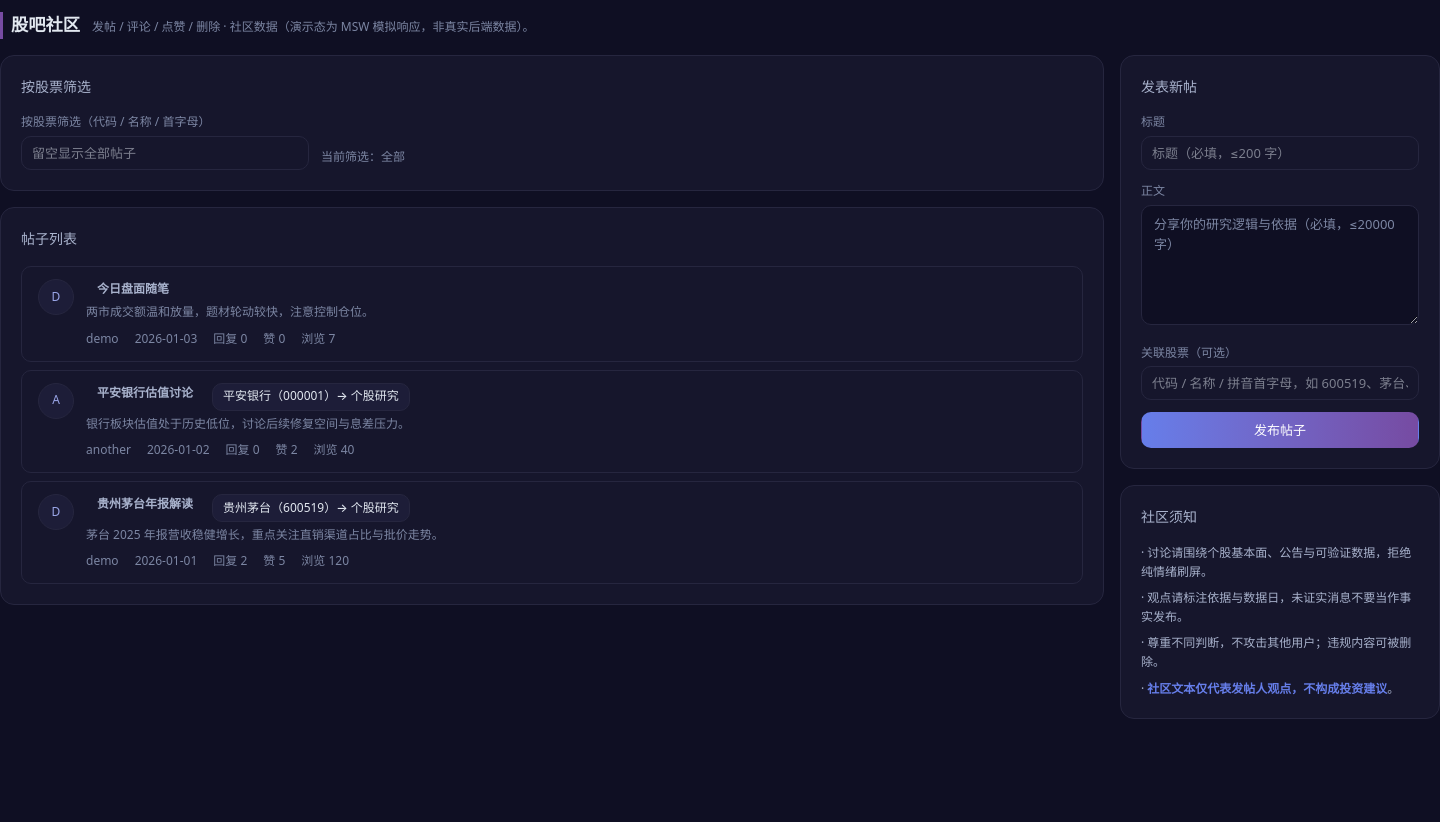
Test case: ForumView · 股吧社区（演示态 MSW 真测） › 发帖 → 新帖出现在列表（发布→列表出现）
Expected: the button "贵州茅台年报解读" is shown, [86,494,204,514]
Type "新帖子标题" into the field named "帖子标题".
click(1280, 153); type("新帖子标题")  # box [1141,136,1419,170]
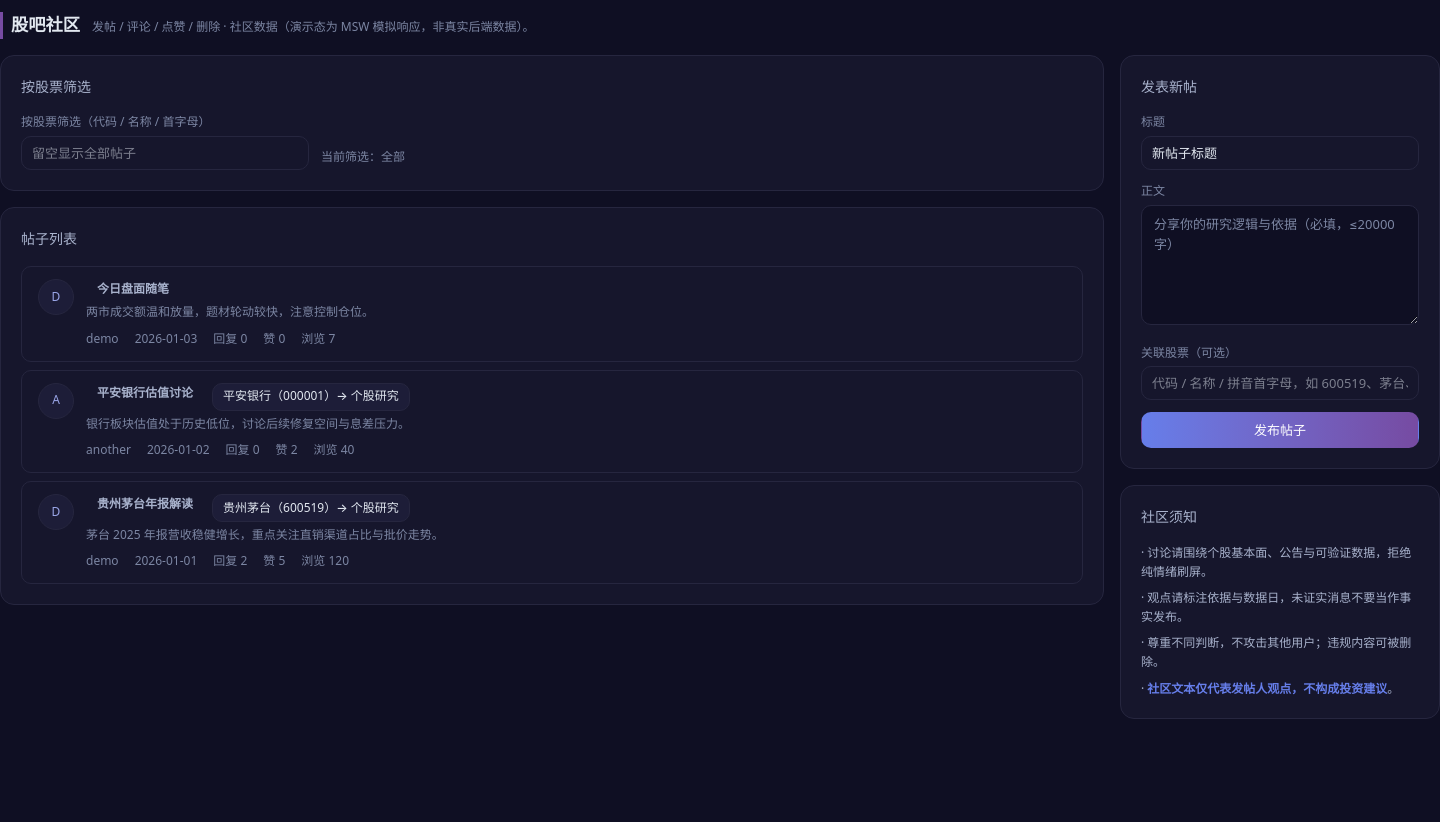
Type "新帖正文内容" into the text box named "帖子内容".
click(1280, 265); type("新帖正文内容")  # box [1141,205,1419,325]
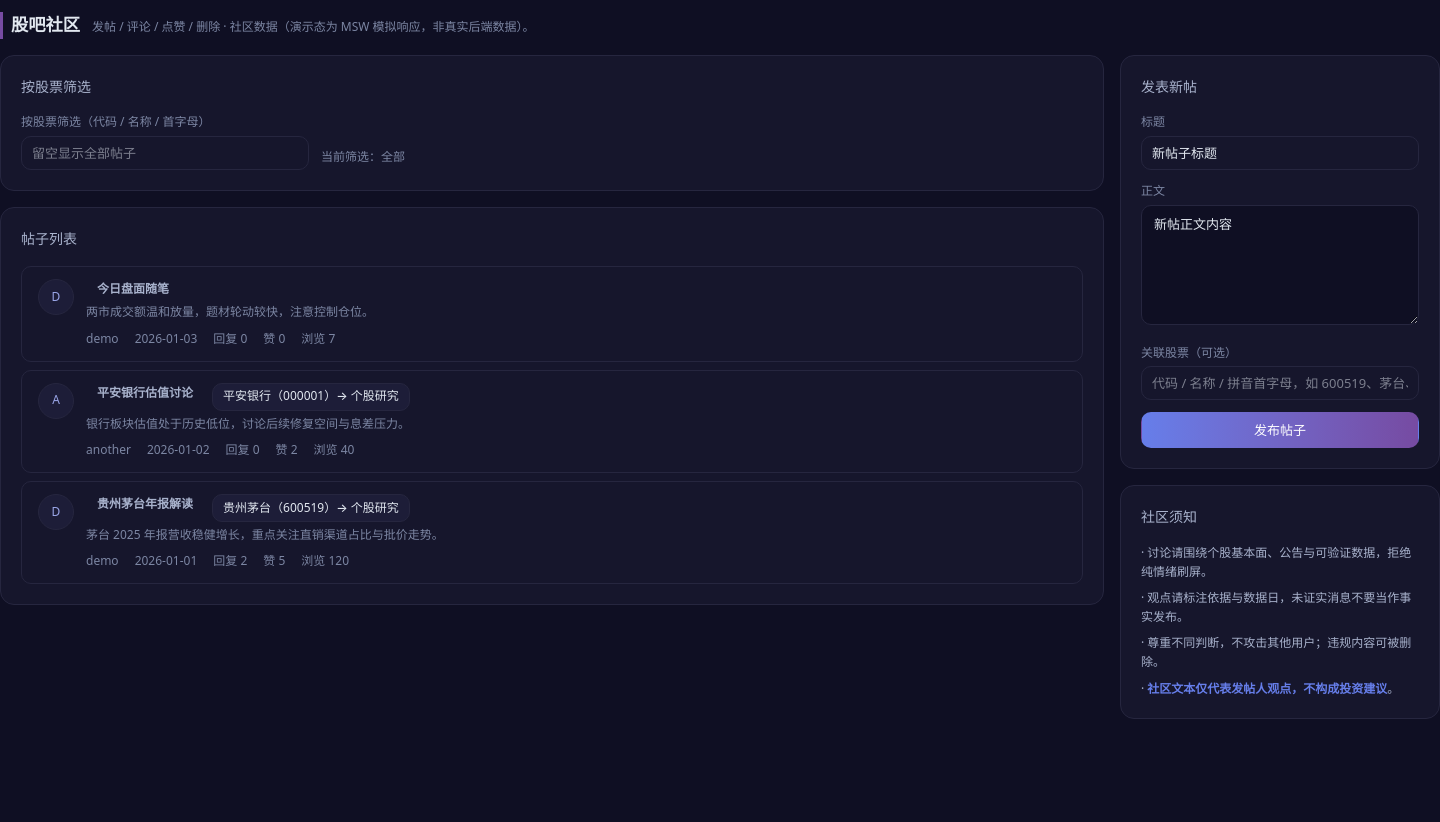
Click the button "发布帖子".
click(1280, 430)  # box [1141,412,1419,448]
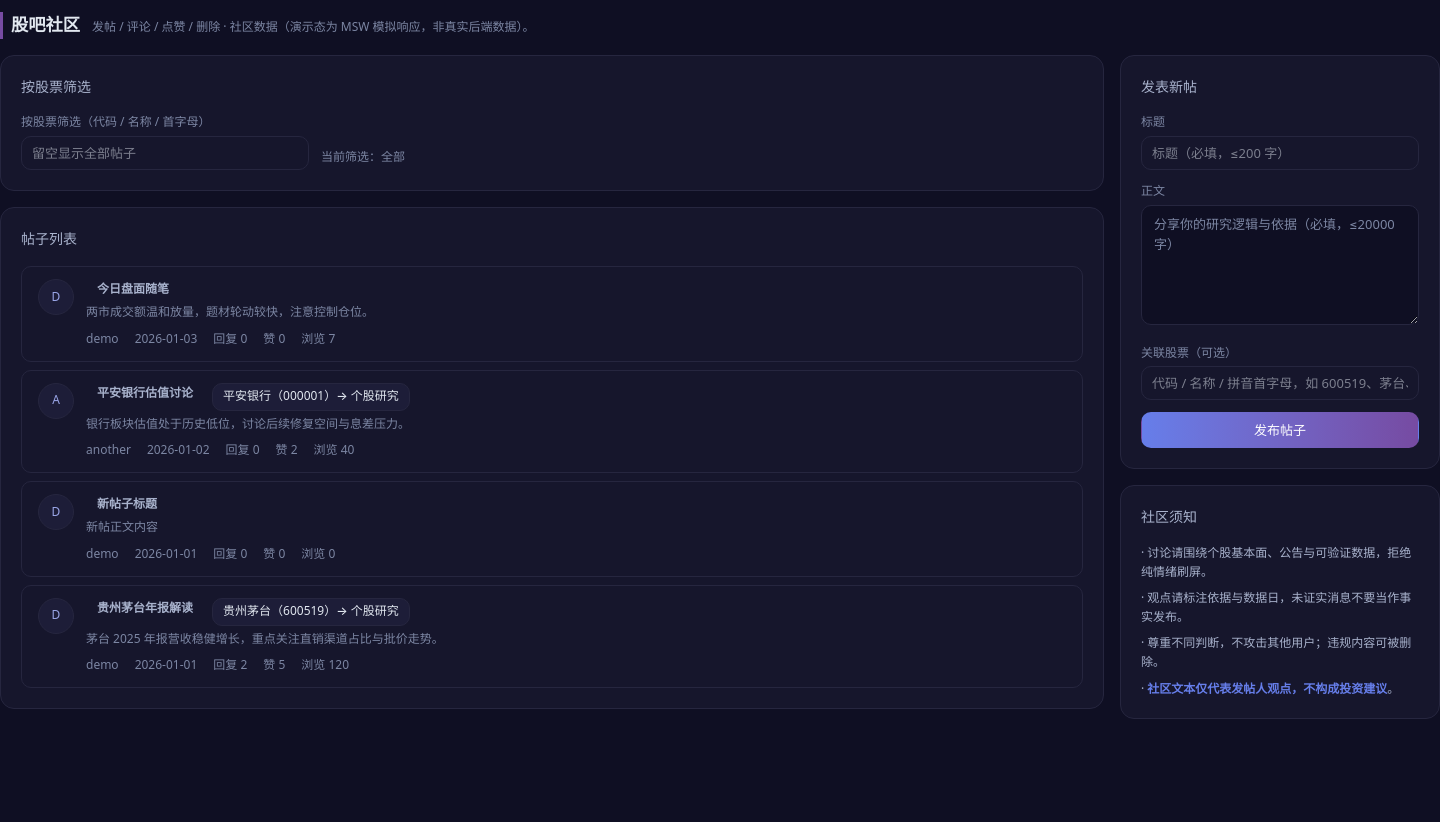
Now the button "新帖子标题" is shown, box [86,494,168,514]
